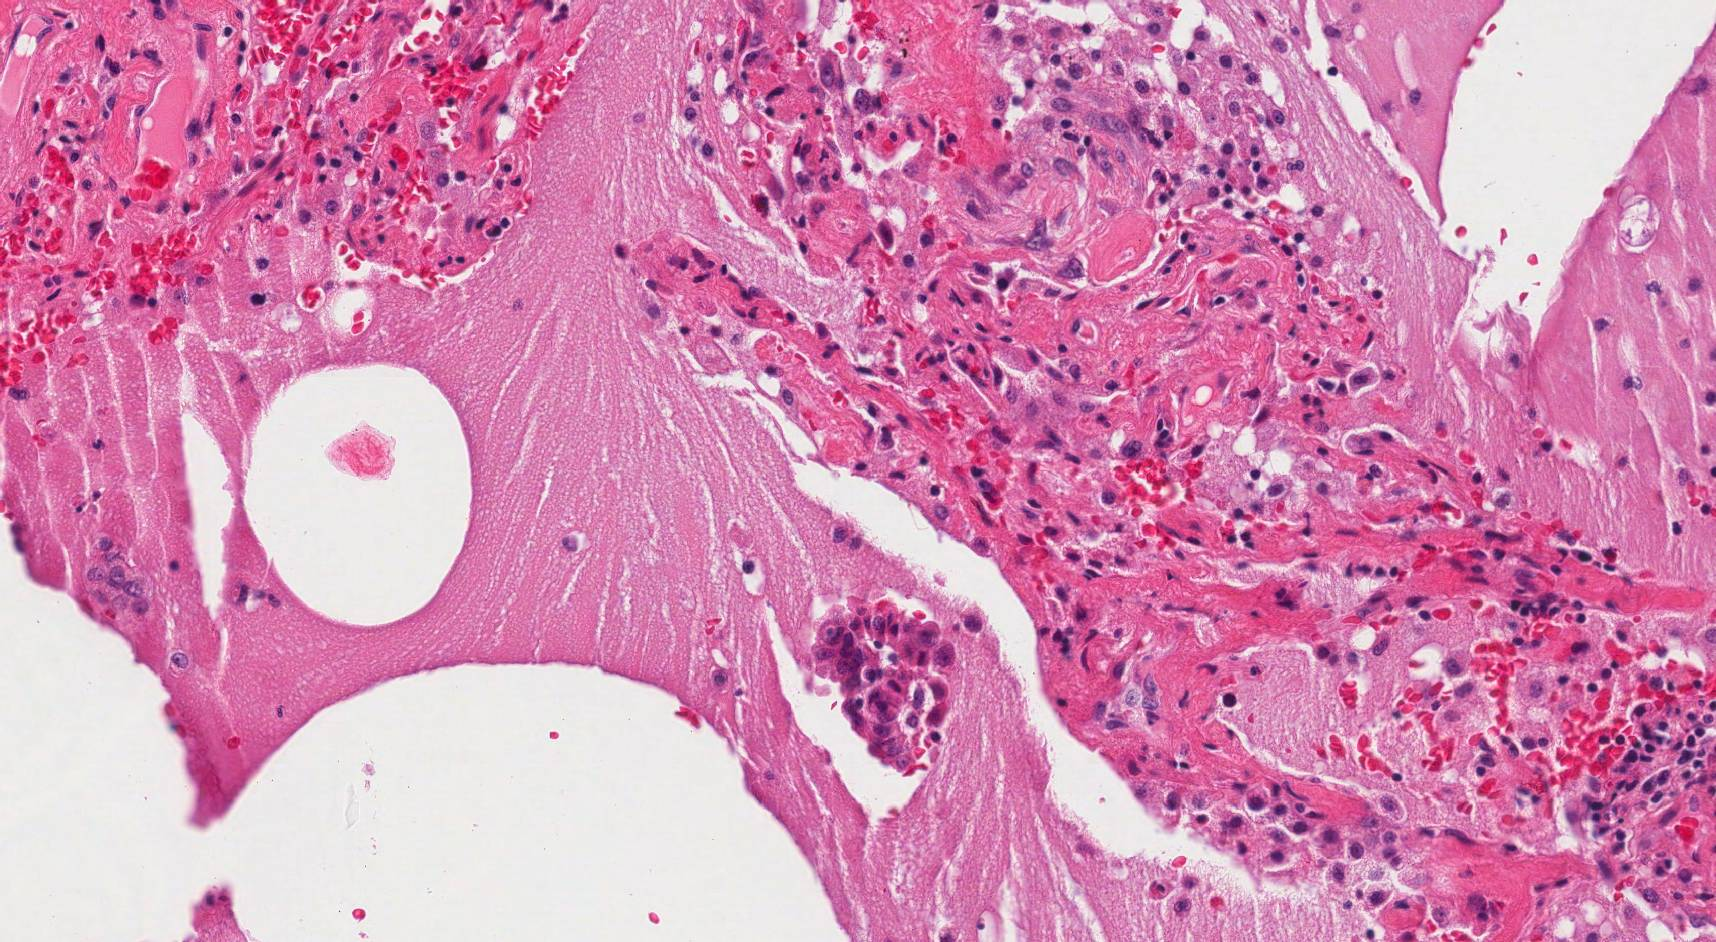stas: (816, 599, 957, 777)
